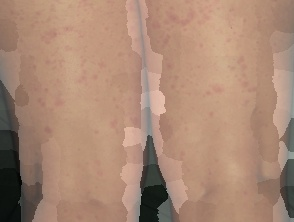SJS-TEN: (139, 0, 294, 222), (0, 0, 149, 222)
